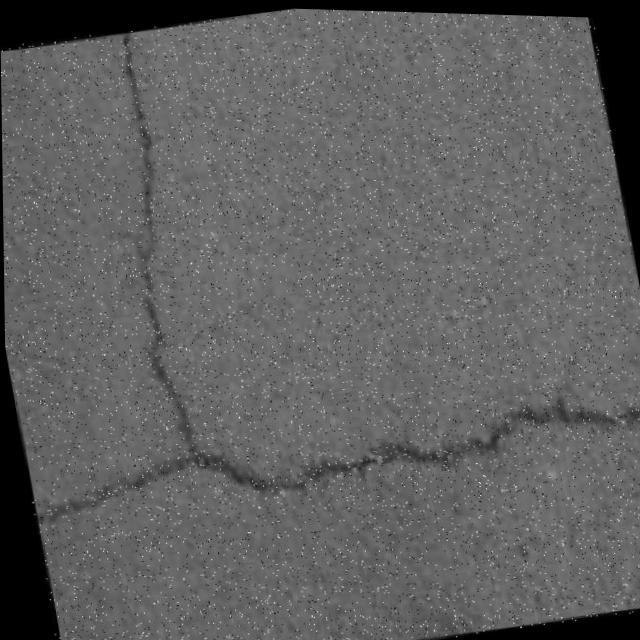Crack: (20, 347, 640, 569), (77, 24, 224, 463)
